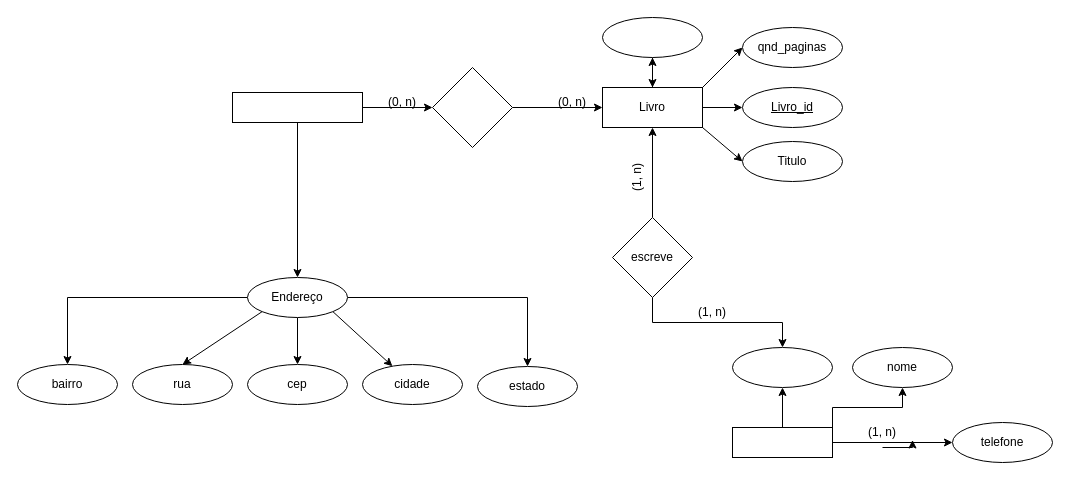
The diagram is 1070 pixels wide and 480 high, and some of its shapes have lost their labels. Each missing label, with the centre of its shape:
Autor: (782,442)
autor_id: (782,367)
Data_publicação: (652,37)
Editora: (297,107)
publica: (472,107)
